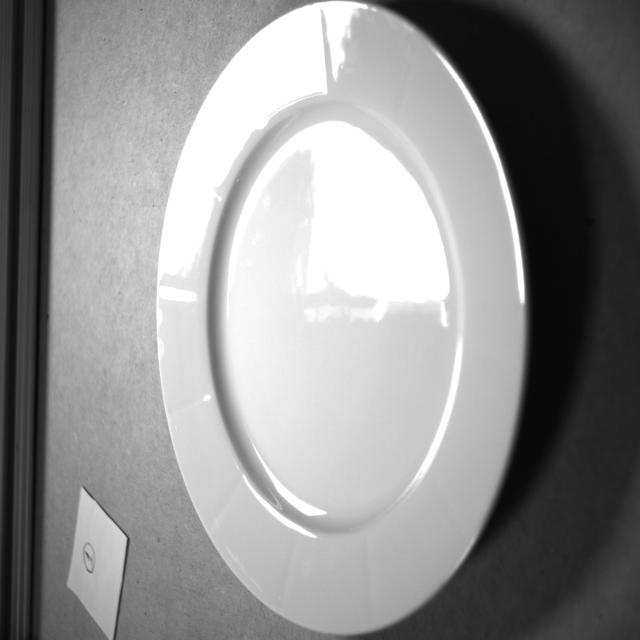plate: (155, 1, 526, 634)
